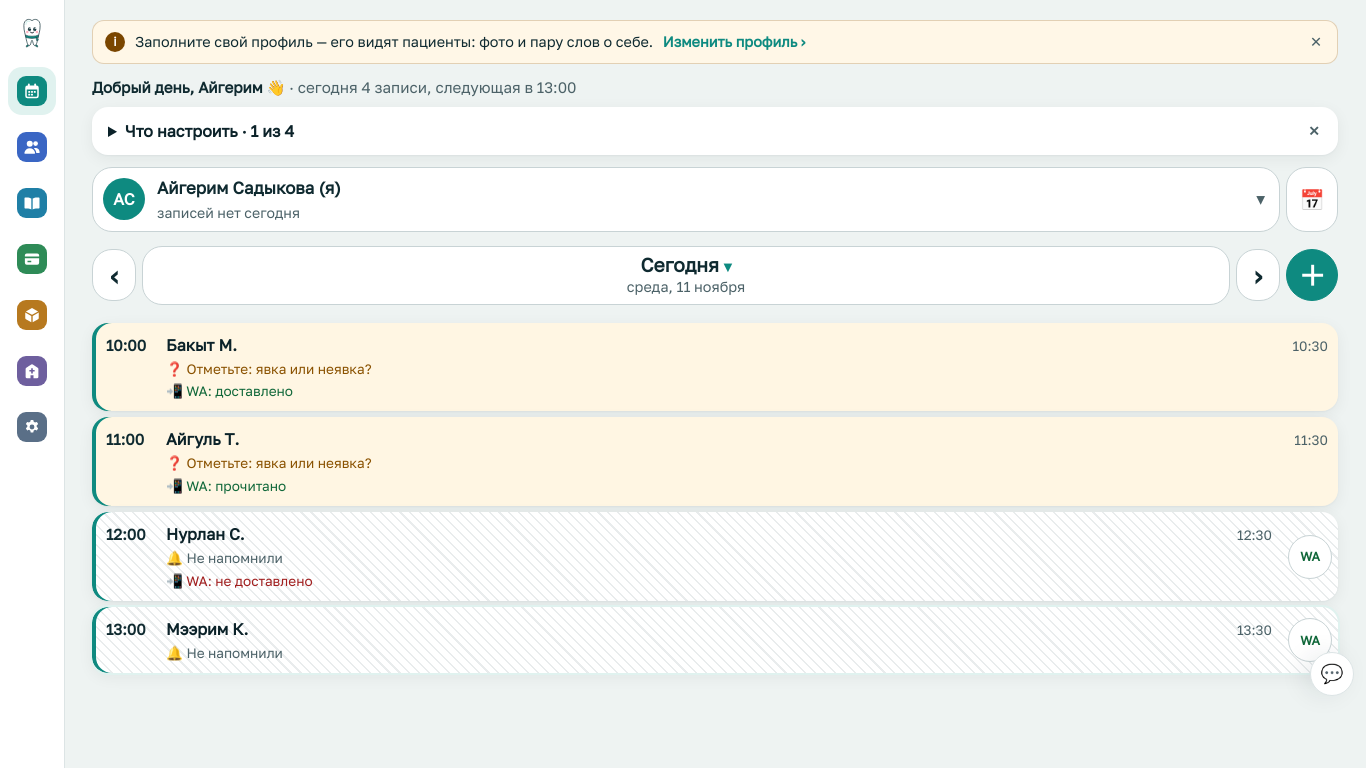
Test: Tish писал о приёме в WhatsApp: «📲 WhatsApp: доставлено / прочитано / не доставлено» в «Дне» и в карточке
Expected: the text "📲 WA: прочитано" is shown, x1=166 y1=478 x2=286 y2=494
Expected: the text "📲 WA: доставлено" is shown 3 times, x1=166 y1=383 x2=293 y2=399; x1=166 y1=478 x2=286 y2=494; x1=166 y1=573 x2=313 y2=589
Click the button "Бакыт М." at (126, 345), box x1=92 y1=323 x2=1338 y2=412
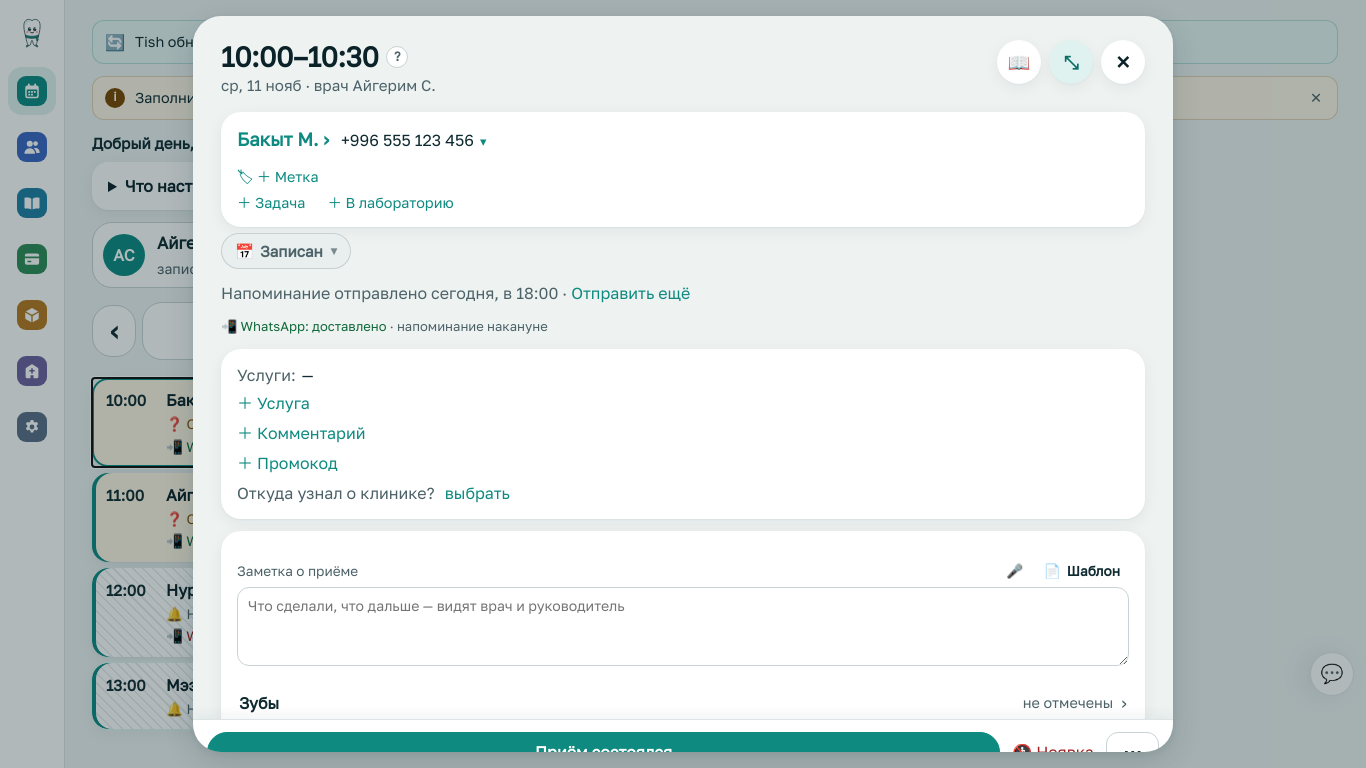
Expected: the text "📲 WhatsApp: доставлено · напоминание накануне" is shown, x1=221 y1=318 x2=548 y2=334
